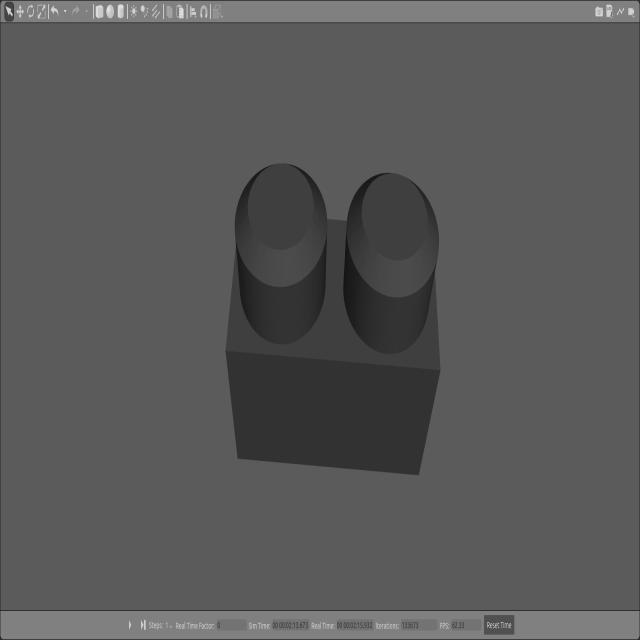block3: (226, 164, 441, 476)
